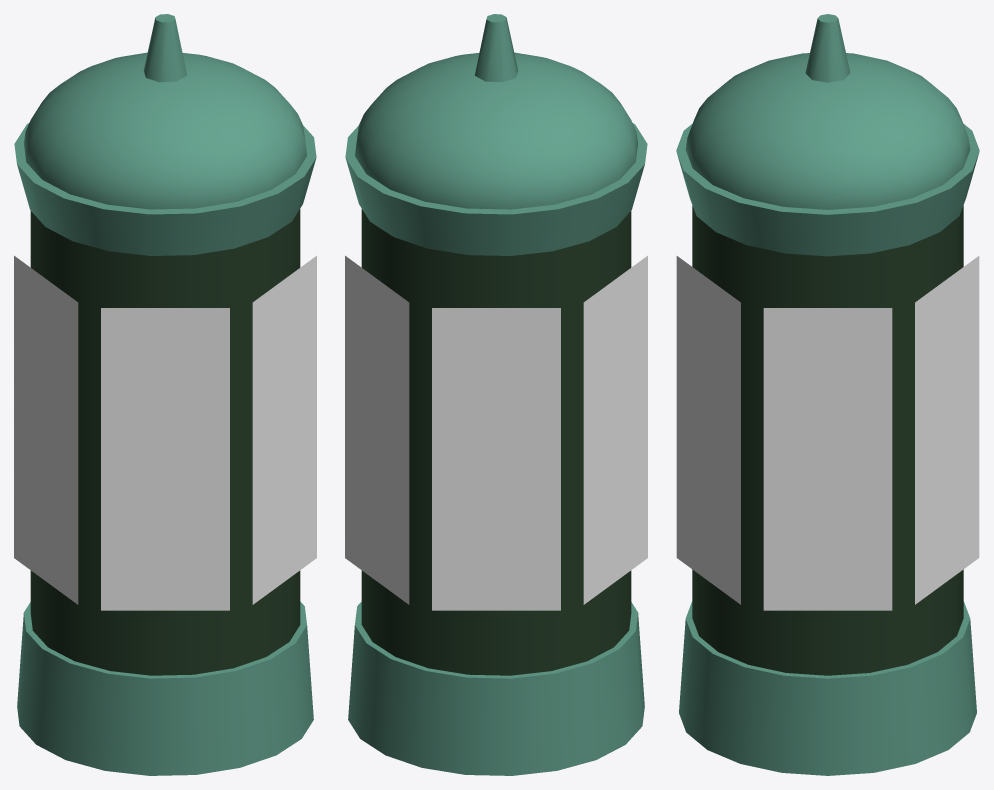
Rendered from MORRIS_COLUMN.glb.
3 views of the same model, side by side, from view 1: azimuth 30°, elevation 25°; view 2: azimuth 150°, elevation 25°; view 3: azimuth 270°, elevation 25° (orthographic).
Visible parts, largest first — view 1: copper_0, citySign_2, paint_1; view 2: copper_0, citySign_2, paint_1; view 3: copper_0, citySign_2, paint_1.
Boxes of the visible parts, <box> form: copper_0: <box>14,14,316,775</box>; citySign_2: <box>14,255,316,610</box>; paint_1: <box>30,209,300,675</box>; copper_0: <box>345,14,647,775</box>; citySign_2: <box>345,255,647,610</box>; paint_1: <box>361,209,631,675</box>; copper_0: <box>676,14,979,775</box>; citySign_2: <box>676,256,979,610</box>; paint_1: <box>692,205,963,675</box>.
Size of the model in its own units: 1.46 by 3.67 by 1.46.
